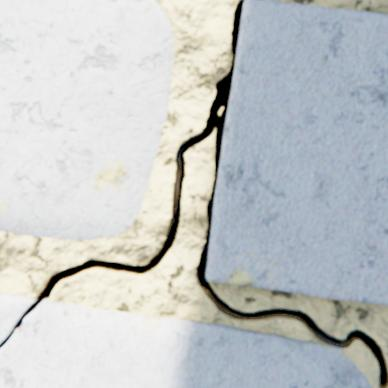brick: (206, 0, 387, 304), (0, 0, 174, 238)
broken_brick: (0, 300, 370, 387), (0, 293, 36, 343)
crack: (0, 0, 387, 387), (179, 325, 183, 331)
